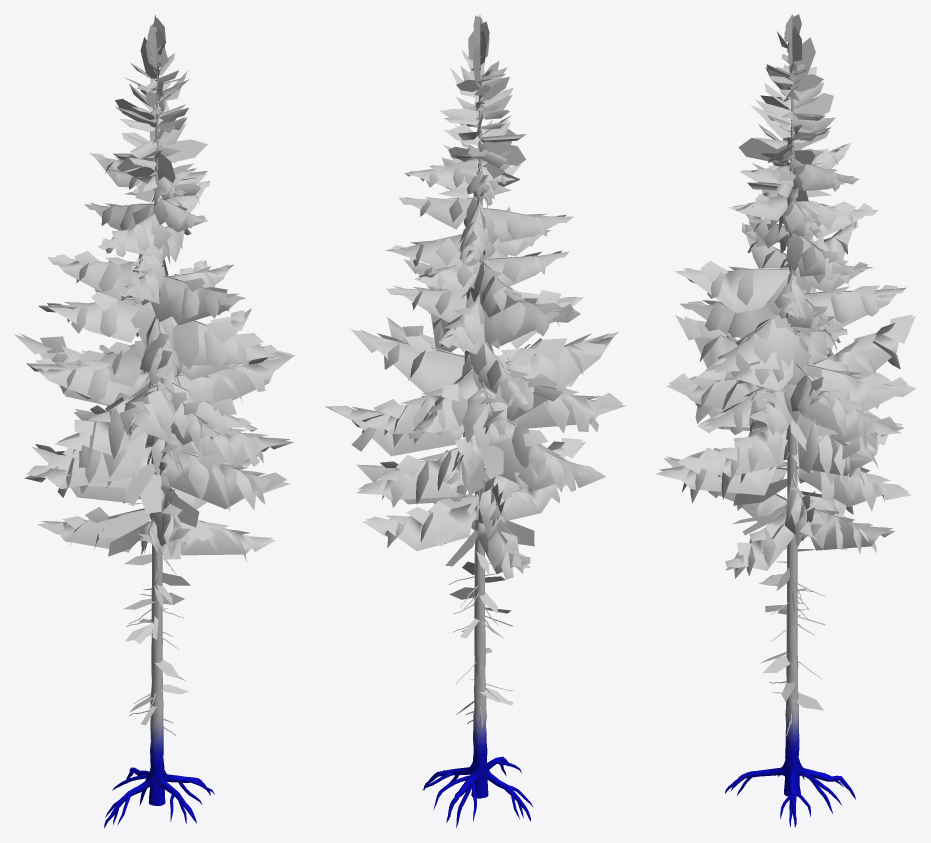
File: Spruce_Tree3_LOD0.fbx
The picture shows the model from 3 angles, left to right: view 1: azimuth 30°, elevation 25°; view 2: azimuth 150°, elevation 25°; view 3: azimuth 270°, elevation 25°; orthographic projection.
Parts seen in each view (by area): view 1: polySurface2727; view 2: polySurface2727; view 3: polySurface2727.
Boxes of the visible parts, bbox=[...] form: polySurface2727: bbox=[14, 14, 294, 828]; polySurface2727: bbox=[325, 15, 625, 827]; polySurface2727: bbox=[656, 14, 916, 827].
Bounding box in the file's own units: 760 × 2376 × 703.
